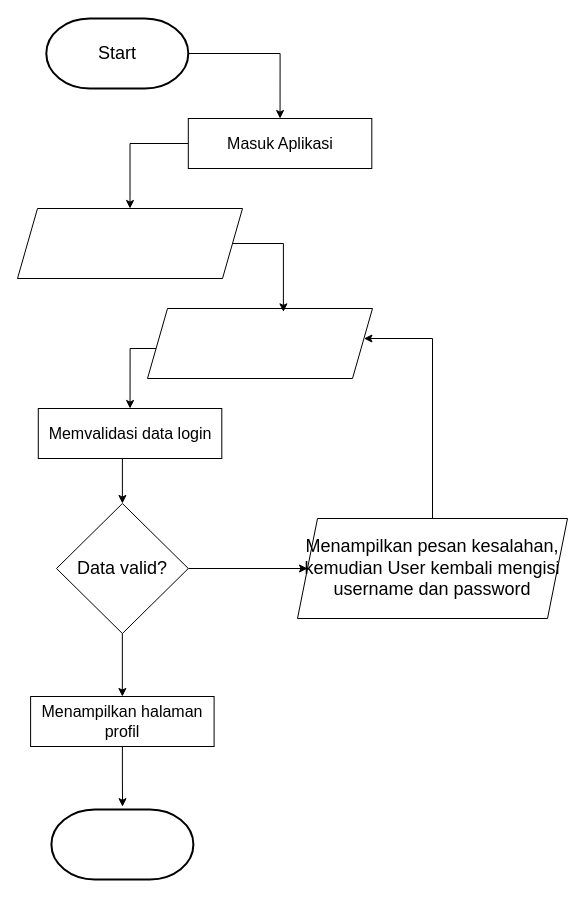
Image size: 585x897. Some labels were removed from this diagram. The shapes that lost their labels are listed below. From the top down, each one's box as (x1, y1, x2, y2) in pixels, then its label:
(16, 208, 242, 278): Menampilkan Form Login
(146, 308, 372, 378): Input username and password
(50, 808, 194, 880): End
